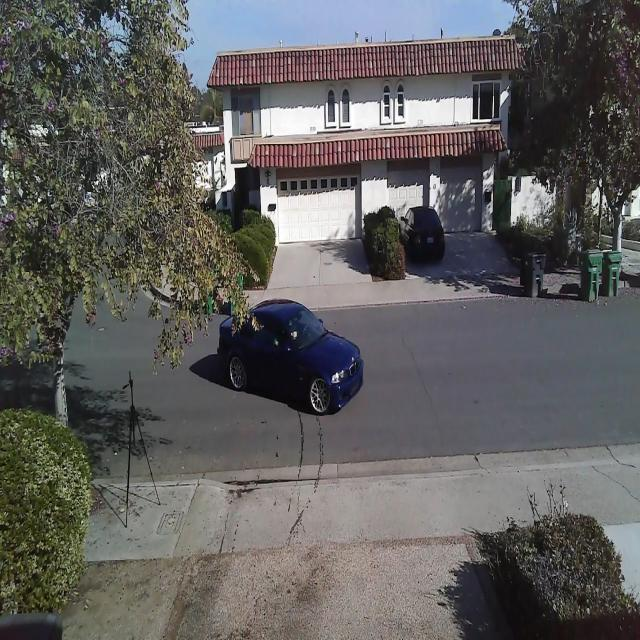Carbeetle: (212, 288, 366, 420)
Civilian: (399, 205, 446, 264)
